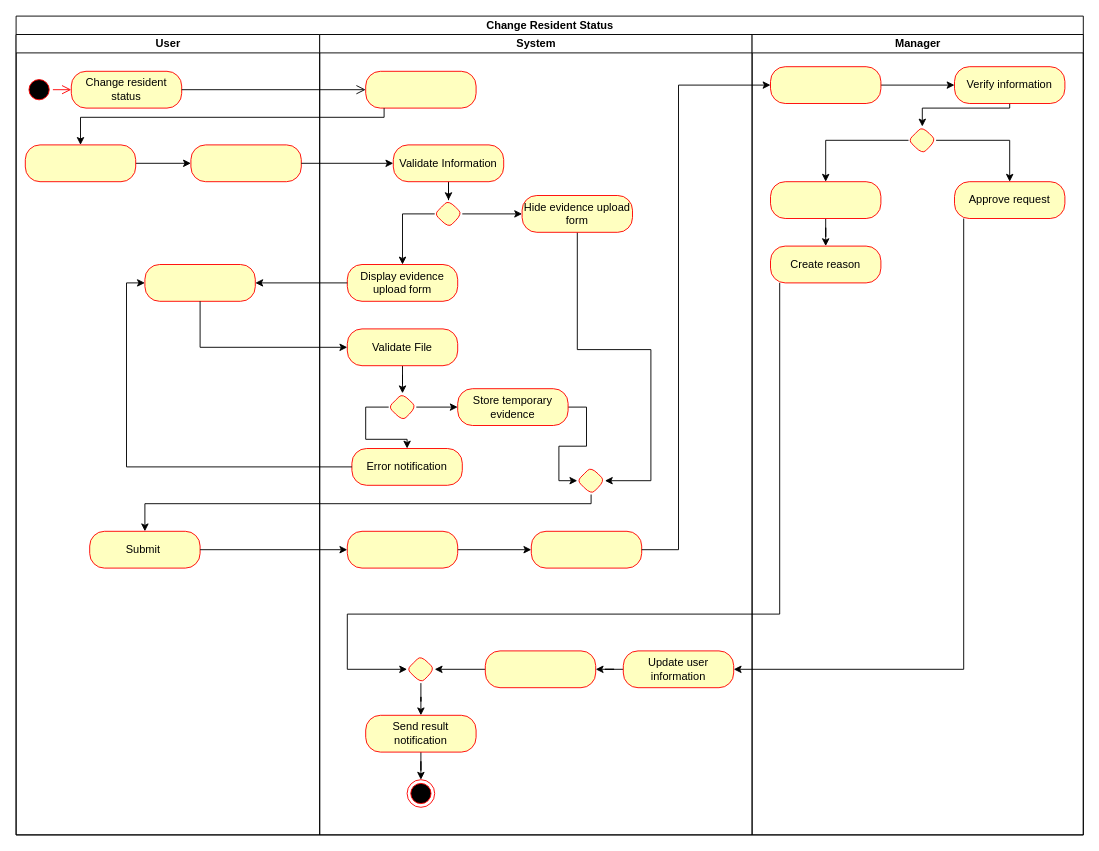
Some shapes in this 1099 by 851 pixel diagram are drawn without their labels. Each missing label, with the box of its shape:
Choose resident status: (24, 144, 136, 182)
Display information form: (365, 70, 476, 108)
Enter additional information: (190, 144, 301, 182)
Notify manager: (530, 530, 642, 568)
Receive request: (770, 66, 881, 104)
Reject request: (770, 181, 881, 218)
Save application: (346, 530, 458, 568)
Update room information: (484, 650, 596, 688)
Upload evidence: (144, 264, 255, 301)
